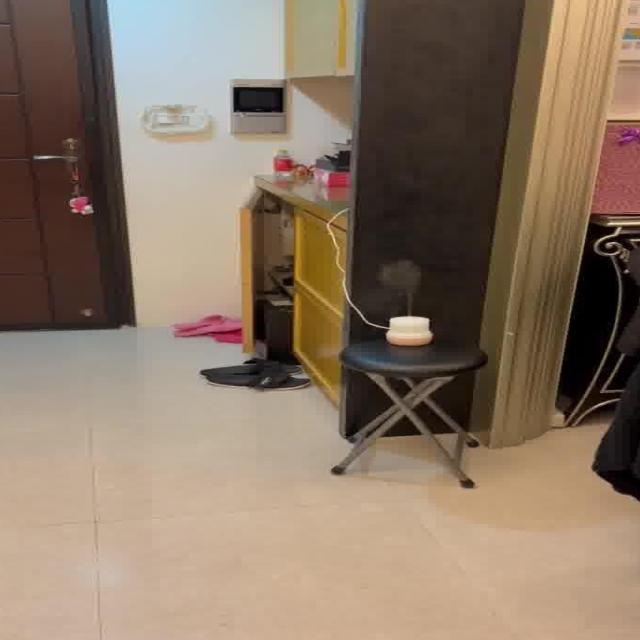fire: (370, 258, 427, 309)
